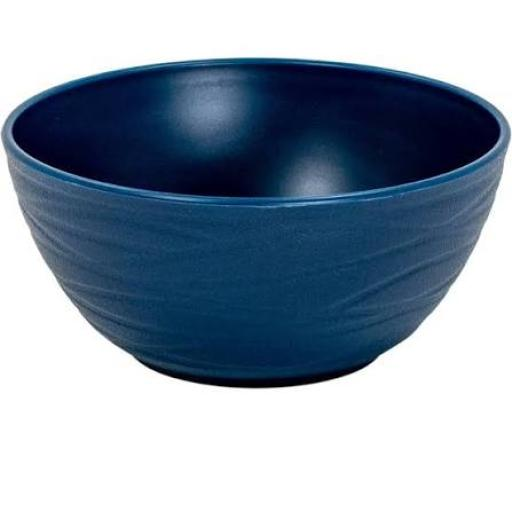Bowl: (2, 58, 510, 386)
